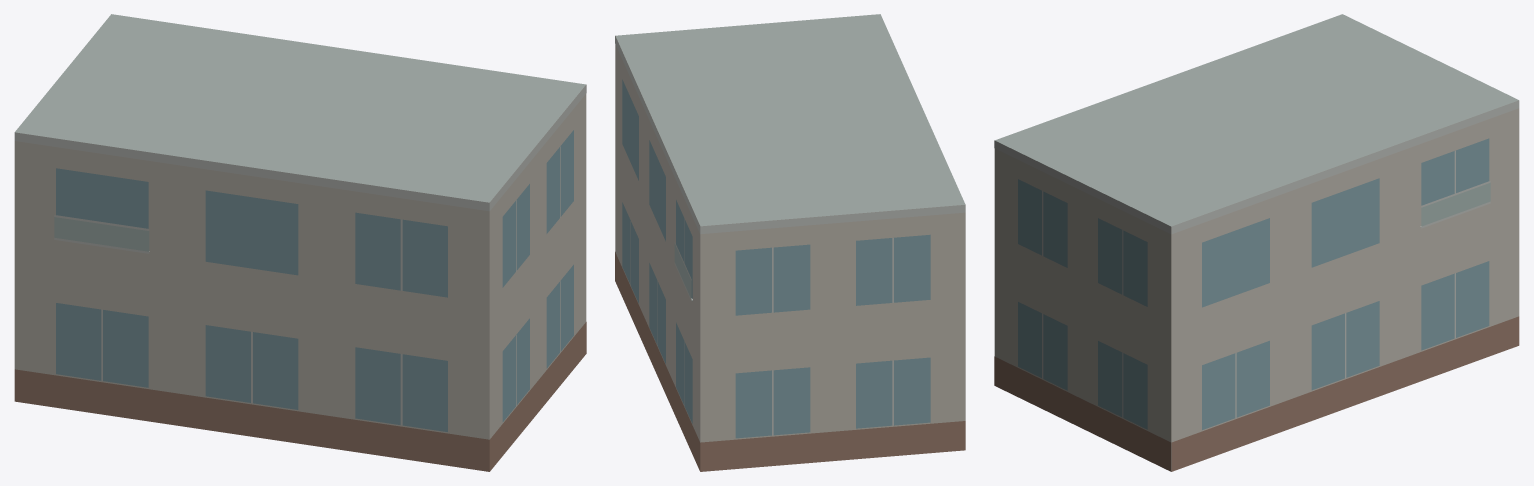
File: survey-upis-33000117.glb
The picture shows the model from 3 angles, left to right: view 1: azimuth 30°, elevation 25°; view 2: azimuth 150°, elevation 25°; view 3: azimuth 270°, elevation 25°; orthographic projection. The views are drawn at different scales.
Visible parts, largest first — view 1: survey-upis-33000117.tmp; view 2: survey-upis-33000117.tmp; view 3: survey-upis-33000117.tmp.
Boxes of the visible parts, x1,y1,x2,y2 form: survey-upis-33000117.tmp: (14,14,586,471); survey-upis-33000117.tmp: (615,14,965,471); survey-upis-33000117.tmp: (994,14,1519,471).
Size of the model in its own units: 14.13 by 7.6 by 14.74.
